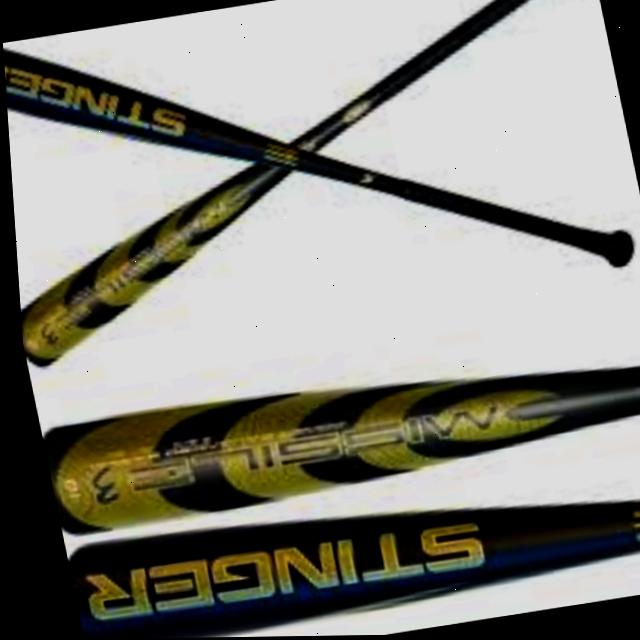baseball bat: (16, 0, 541, 369), (3, 51, 627, 277), (30, 333, 640, 540), (53, 453, 640, 640)
